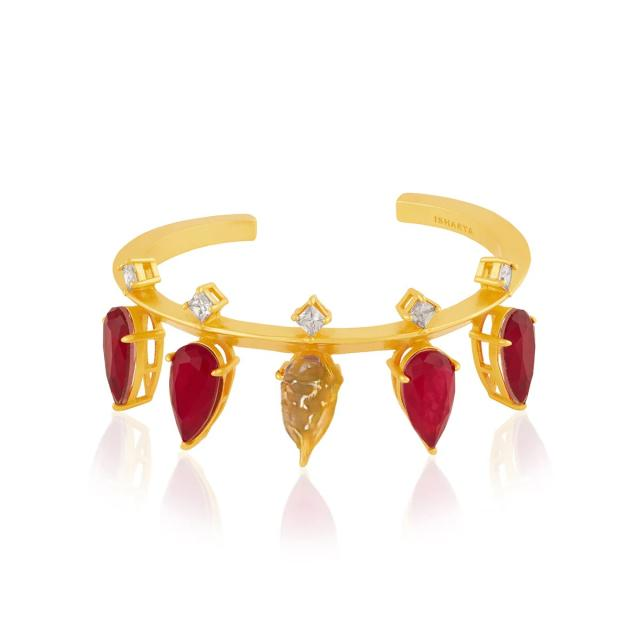missing gem: (282, 352, 337, 457)
